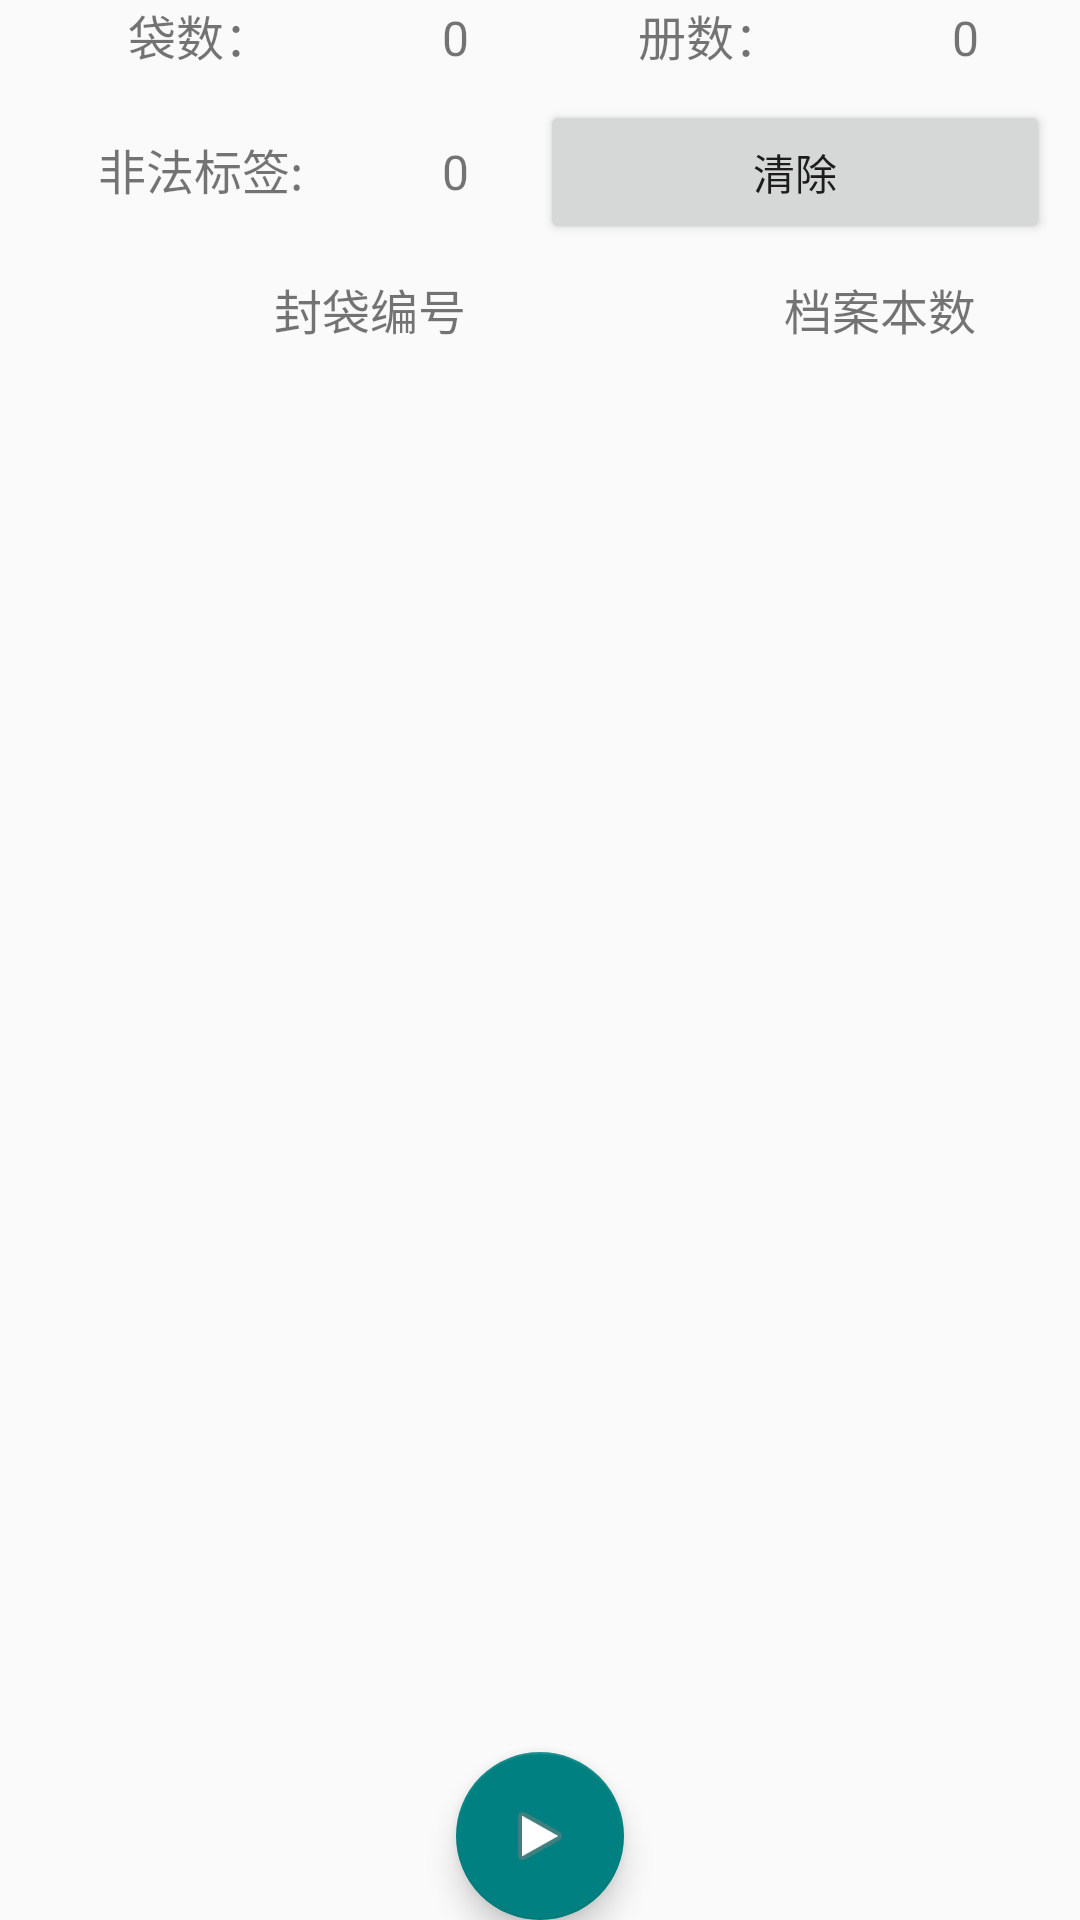

Where icons sit on this 1080w x 1920h app screen, as (x1, y1, x2, y2):
play: (456, 1752, 624, 1920)
